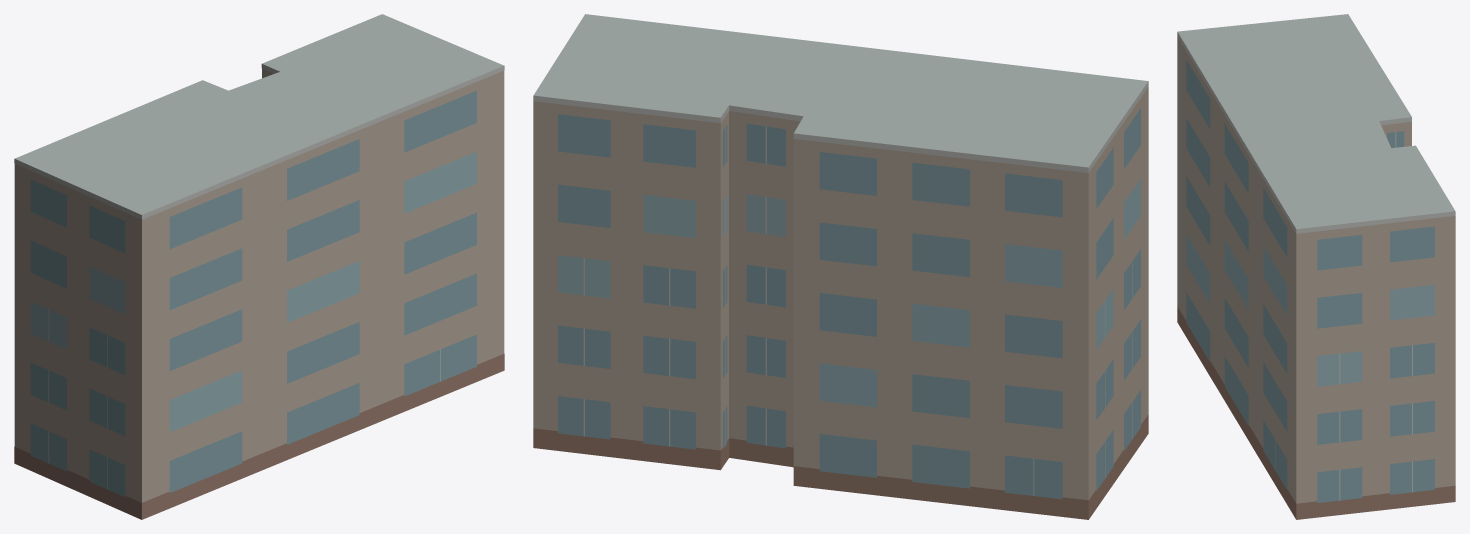
File: survey-upis-32935983.glb
3 renders of one model, left to right at view 1: azimuth 30°, elevation 25°; view 2: azimuth 150°, elevation 25°; view 3: azimuth 270°, elevation 25°, orthographic. The views are drawn at different scales.
Parts seen in each view (by area): view 1: survey-upis-32935983.tmp; view 2: survey-upis-32935983.tmp; view 3: survey-upis-32935983.tmp.
Part boxes in pixels (left/top/right/bottom): survey-upis-32935983.tmp: left=14, top=14, right=504, bottom=519; survey-upis-32935983.tmp: left=533, top=14, right=1148, bottom=519; survey-upis-32935983.tmp: left=1177, top=14, right=1455, bottom=519.
Bounding box in the file's own units: 24.95 × 15.7 × 13.63.
